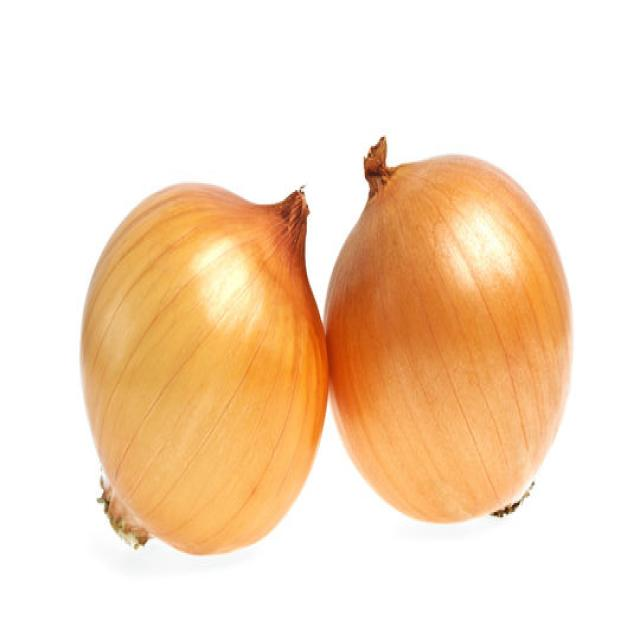Onion: (322, 133, 572, 523), (79, 179, 328, 556)
